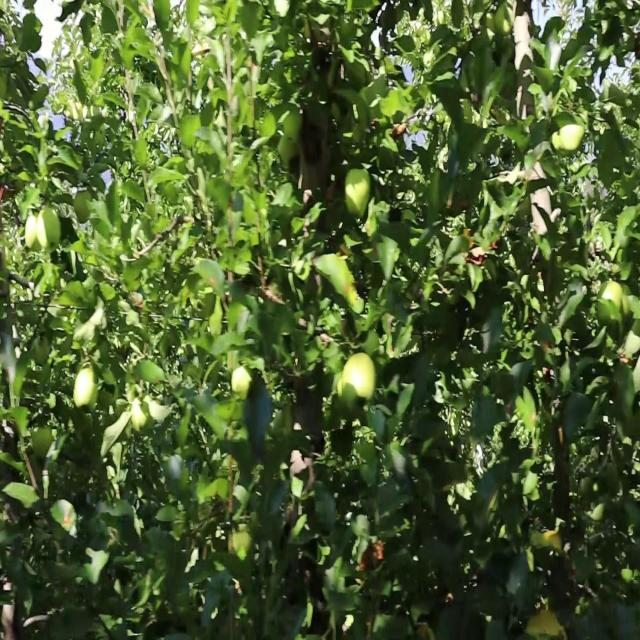apple: (344, 355, 377, 407), (344, 170, 372, 220), (464, 234, 498, 268), (532, 604, 562, 639), (76, 369, 99, 411), (488, 7, 515, 39), (228, 526, 253, 560), (28, 213, 49, 252), (132, 398, 151, 436), (284, 106, 304, 140), (232, 369, 252, 402), (28, 213, 40, 254), (544, 341, 552, 379)
